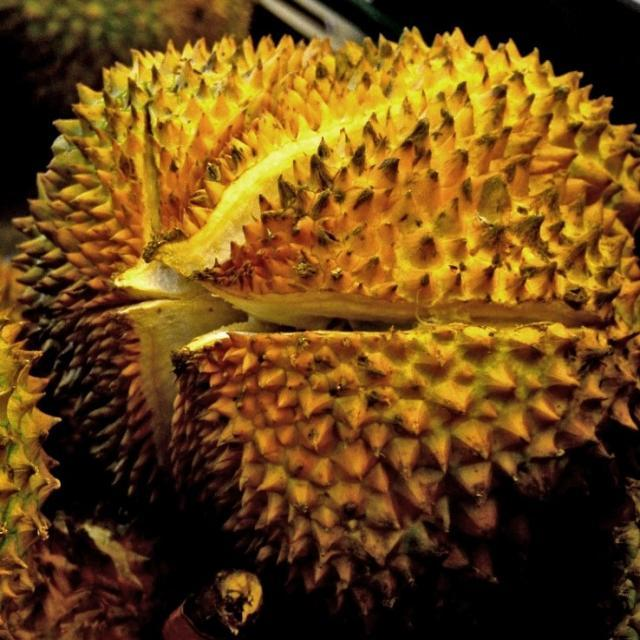defective: (10, 19, 640, 593)
